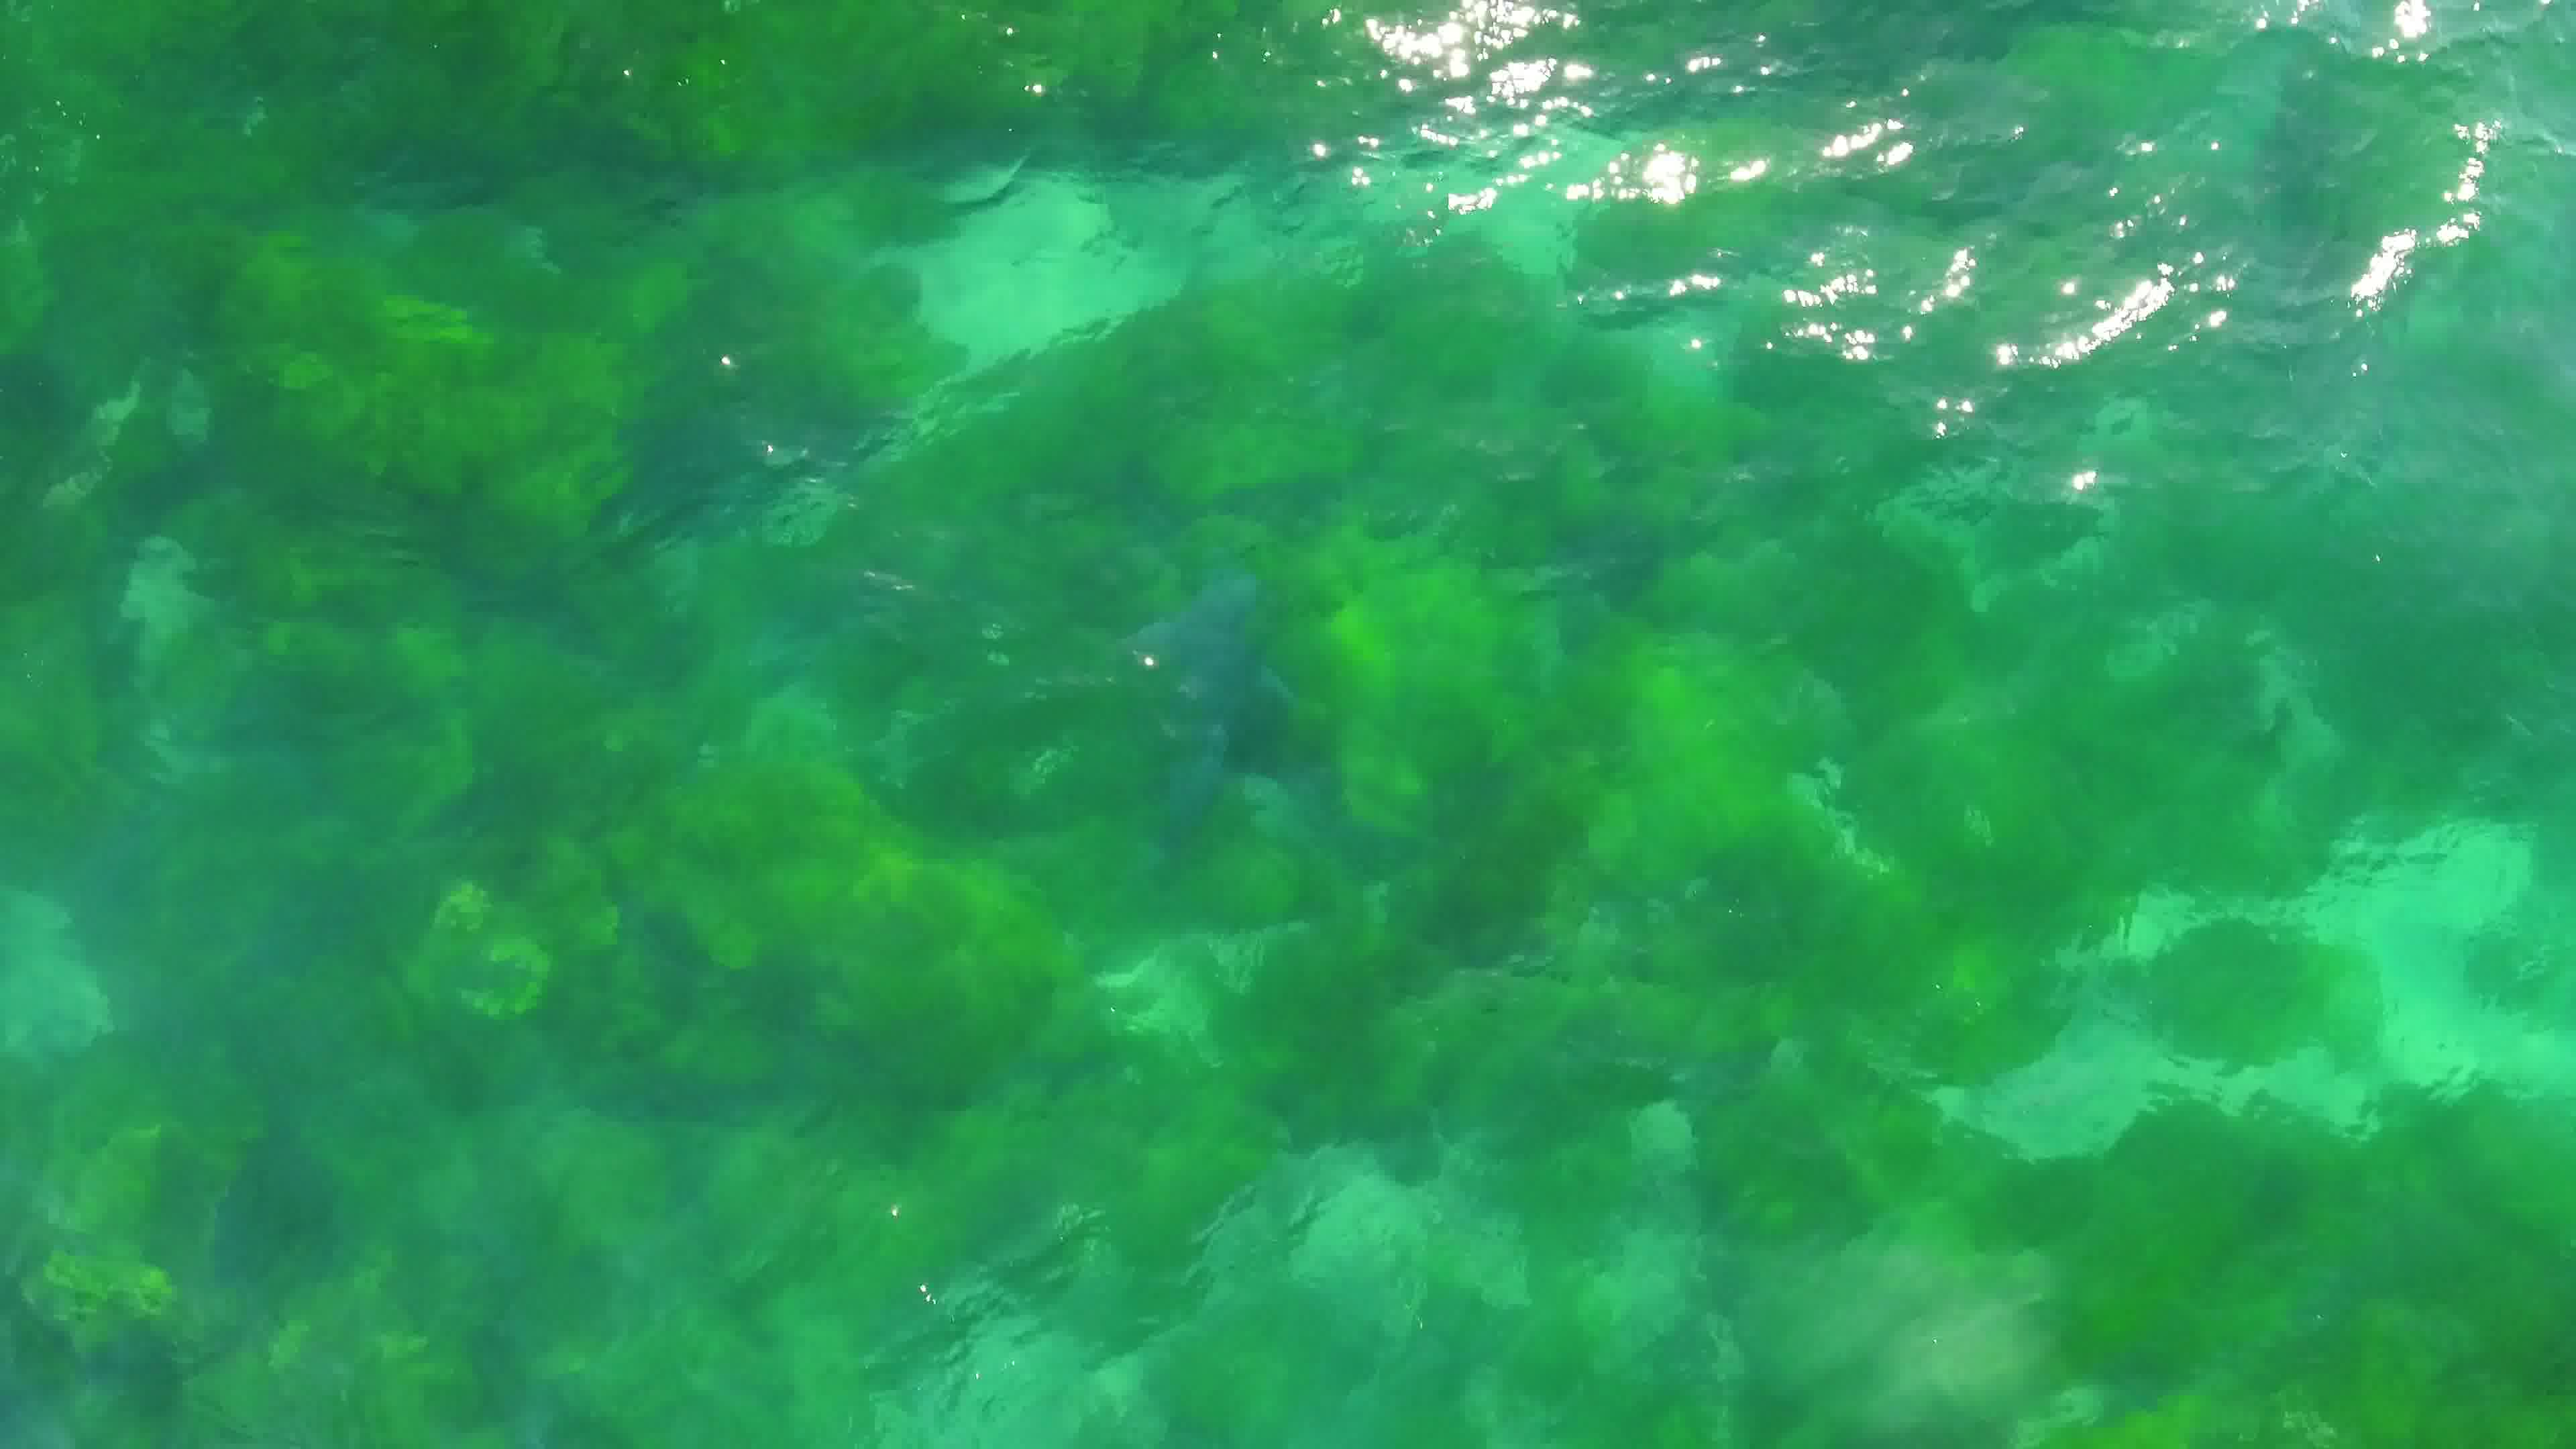shark: (1095, 564, 1309, 867)
